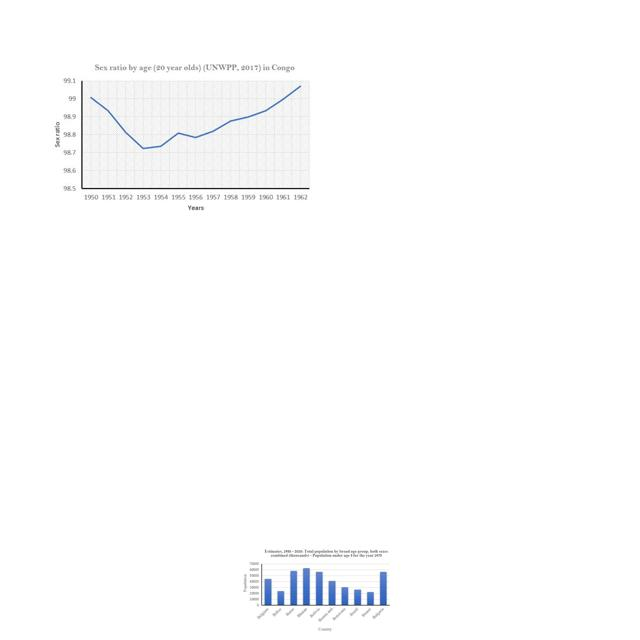Graph: (47, 59, 314, 216), (238, 548, 397, 634)
